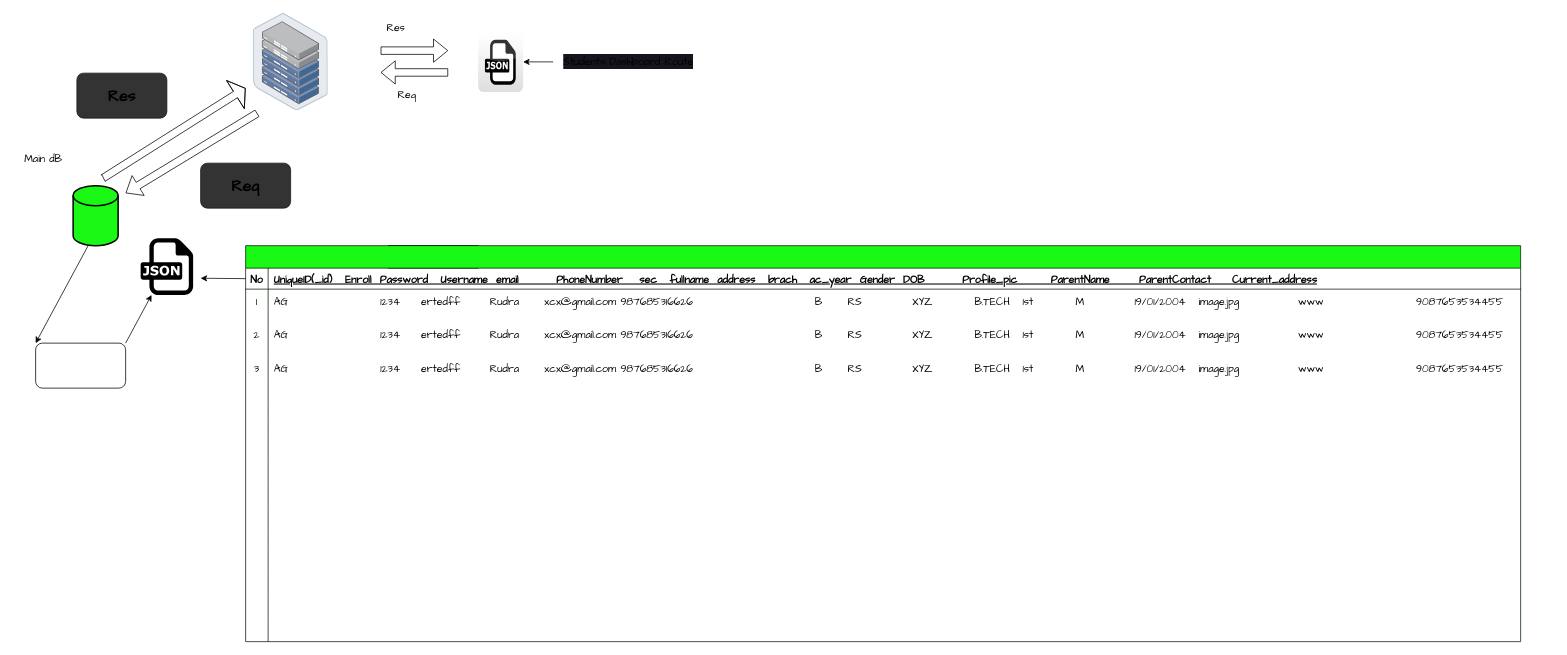
Some shapes in this 1567 by 655 pixel diagram are drawn without their labels. The shapes that lost their labels are listed below. From the top down, each one's box as (x1, y1, x2, y2) in pixels, then its label:
(35, 342, 126, 388): Students Collection
(245, 245, 1521, 642): Table
